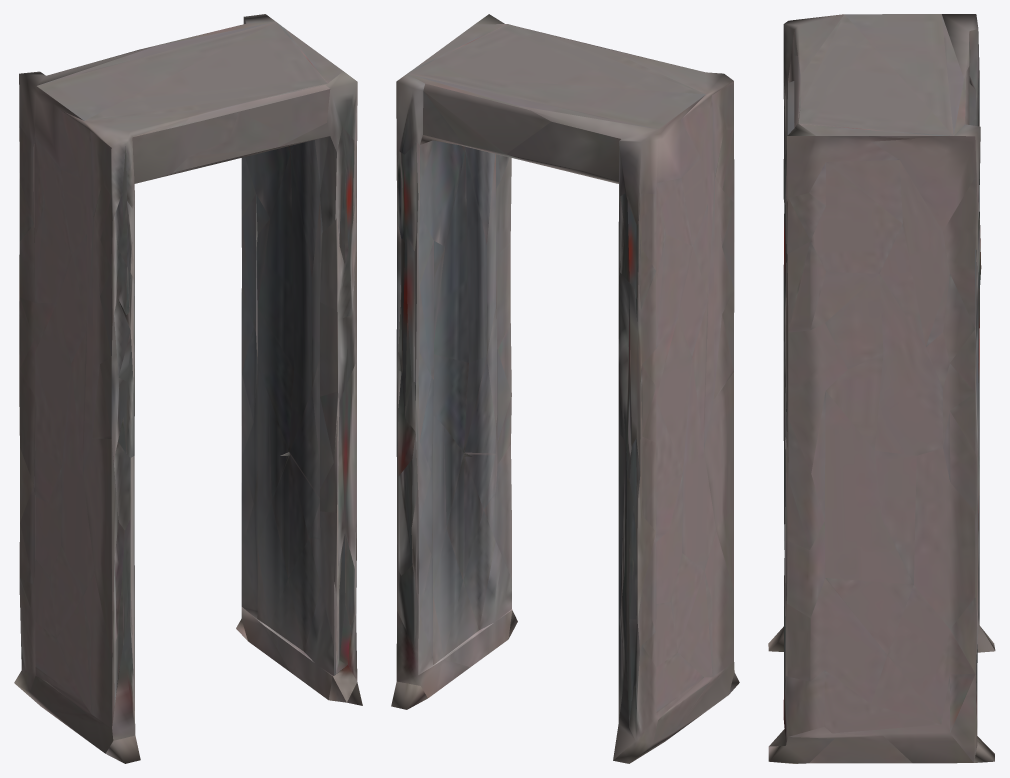
File: secdoor_lod2.glb
3 views of the same model, side by side, from view 1: azimuth 30°, elevation 25°; view 2: azimuth 150°, elevation 25°; view 3: azimuth 270°, elevation 25° (orthographic).
Parts seen in each view (by area): view 1: tripo_node_fccd5565; view 2: tripo_node_fccd5565; view 3: tripo_node_fccd5565.
Part boxes in pixels (left/top/right/bottom): tripo_node_fccd5565: left=14, top=14, right=362, bottom=763; tripo_node_fccd5565: left=391, top=14, right=739, bottom=763; tripo_node_fccd5565: left=768, top=14, right=995, bottom=763.
Bounding box in the file's own units: 41.71 × 99.98 × 32.67.
1 material, 1 textured.
